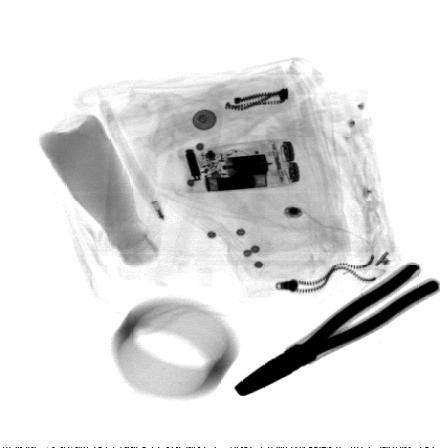Pliers: (233, 263, 439, 400)
